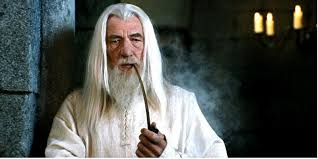gandalf gray: (28, 5, 243, 158)
